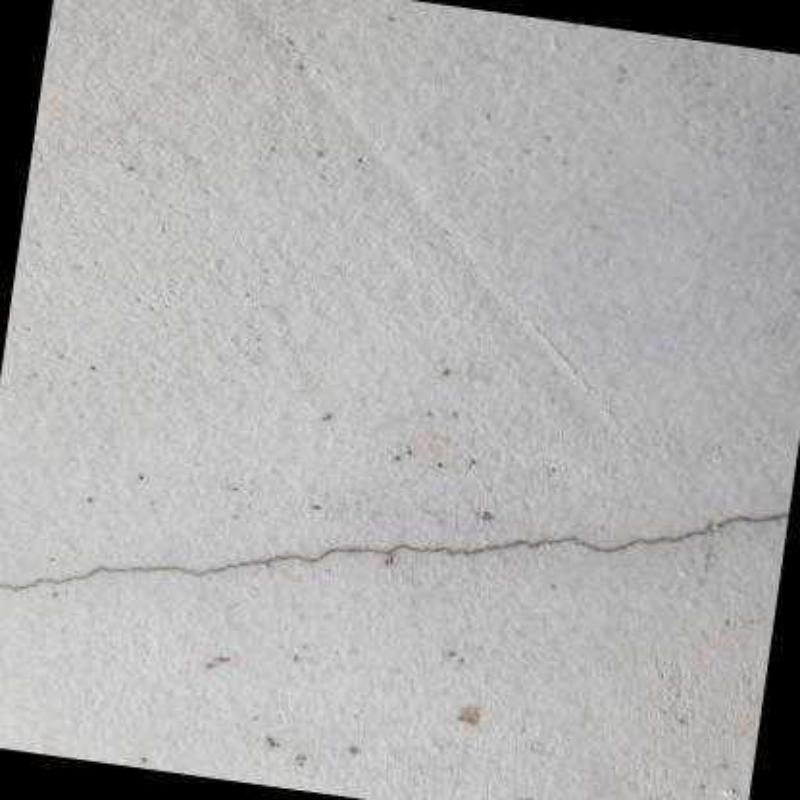pothole: (1, 517, 714, 592), (715, 511, 789, 529)
